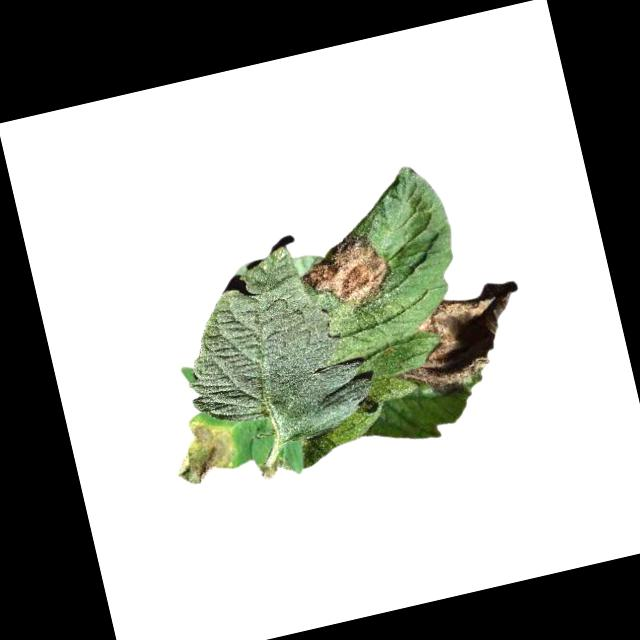Late_blight: (381, 277, 536, 403), (294, 225, 397, 318), (162, 412, 242, 489), (256, 454, 294, 483)
